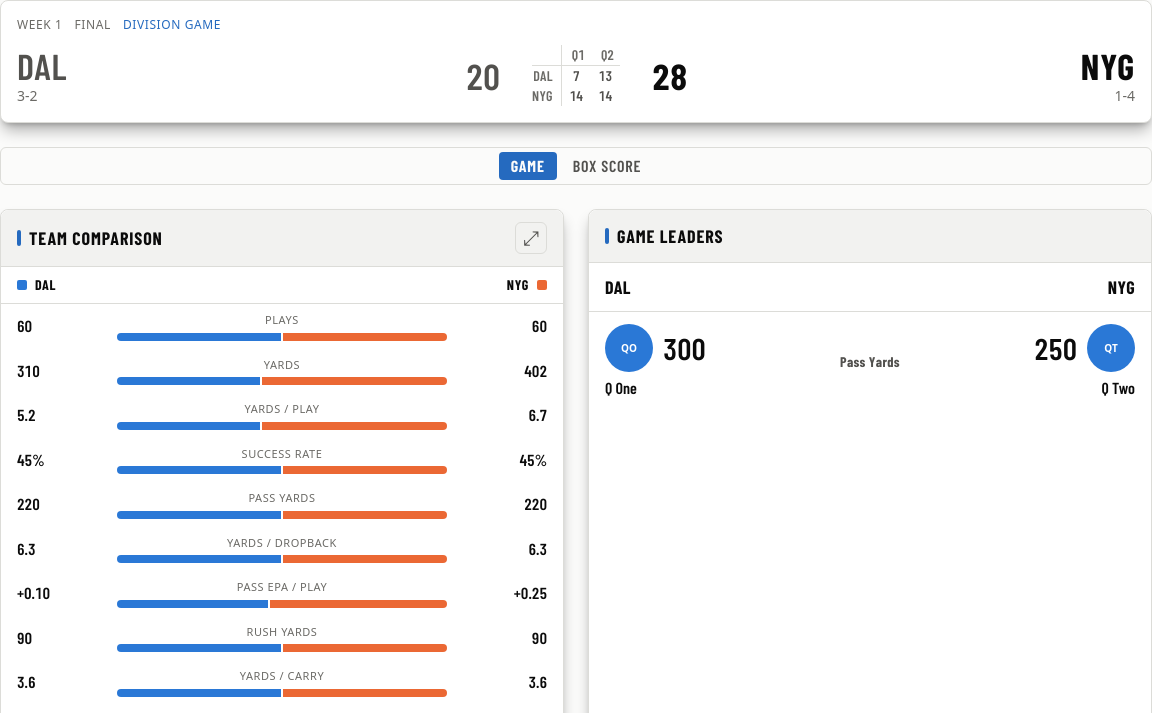
it: MatchupPage › keeps the box score on its own tab
The width and height of the screenshot is (1152, 713).
Click the button "Box Score" at (607, 166), box [561,152,653,180]
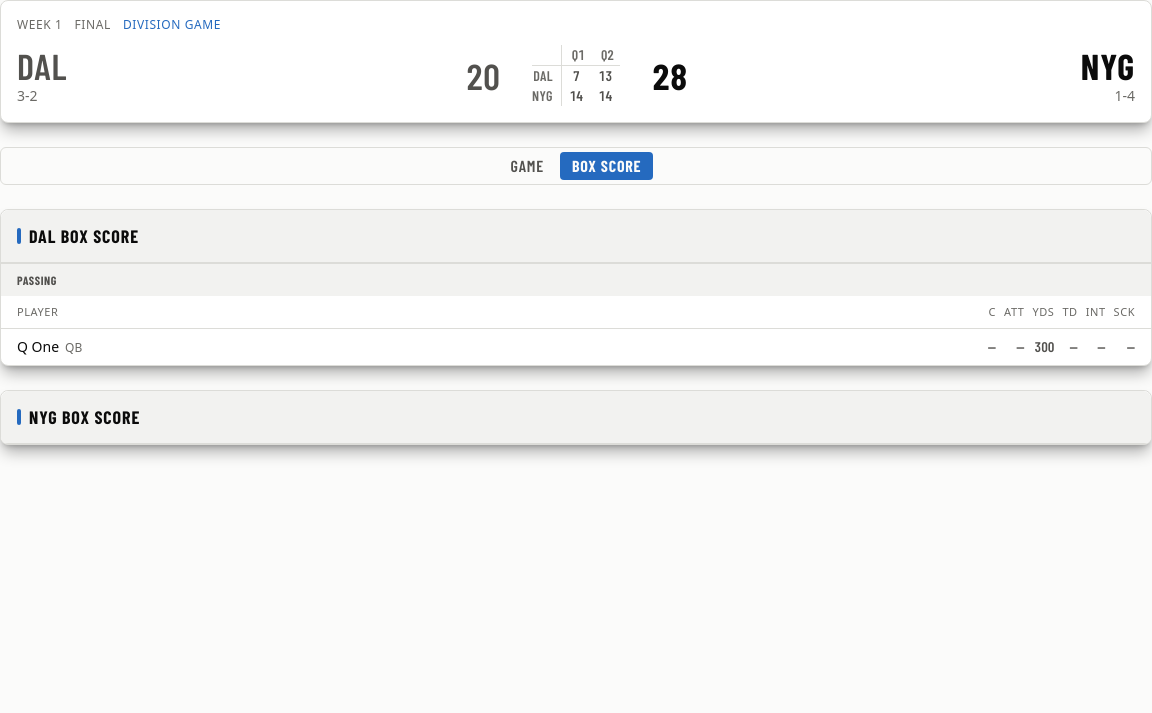
Expected: the heading "DAL Box Score" is shown, [17,222,139,250]
Expected: the heading "Team Comparison" is gone
